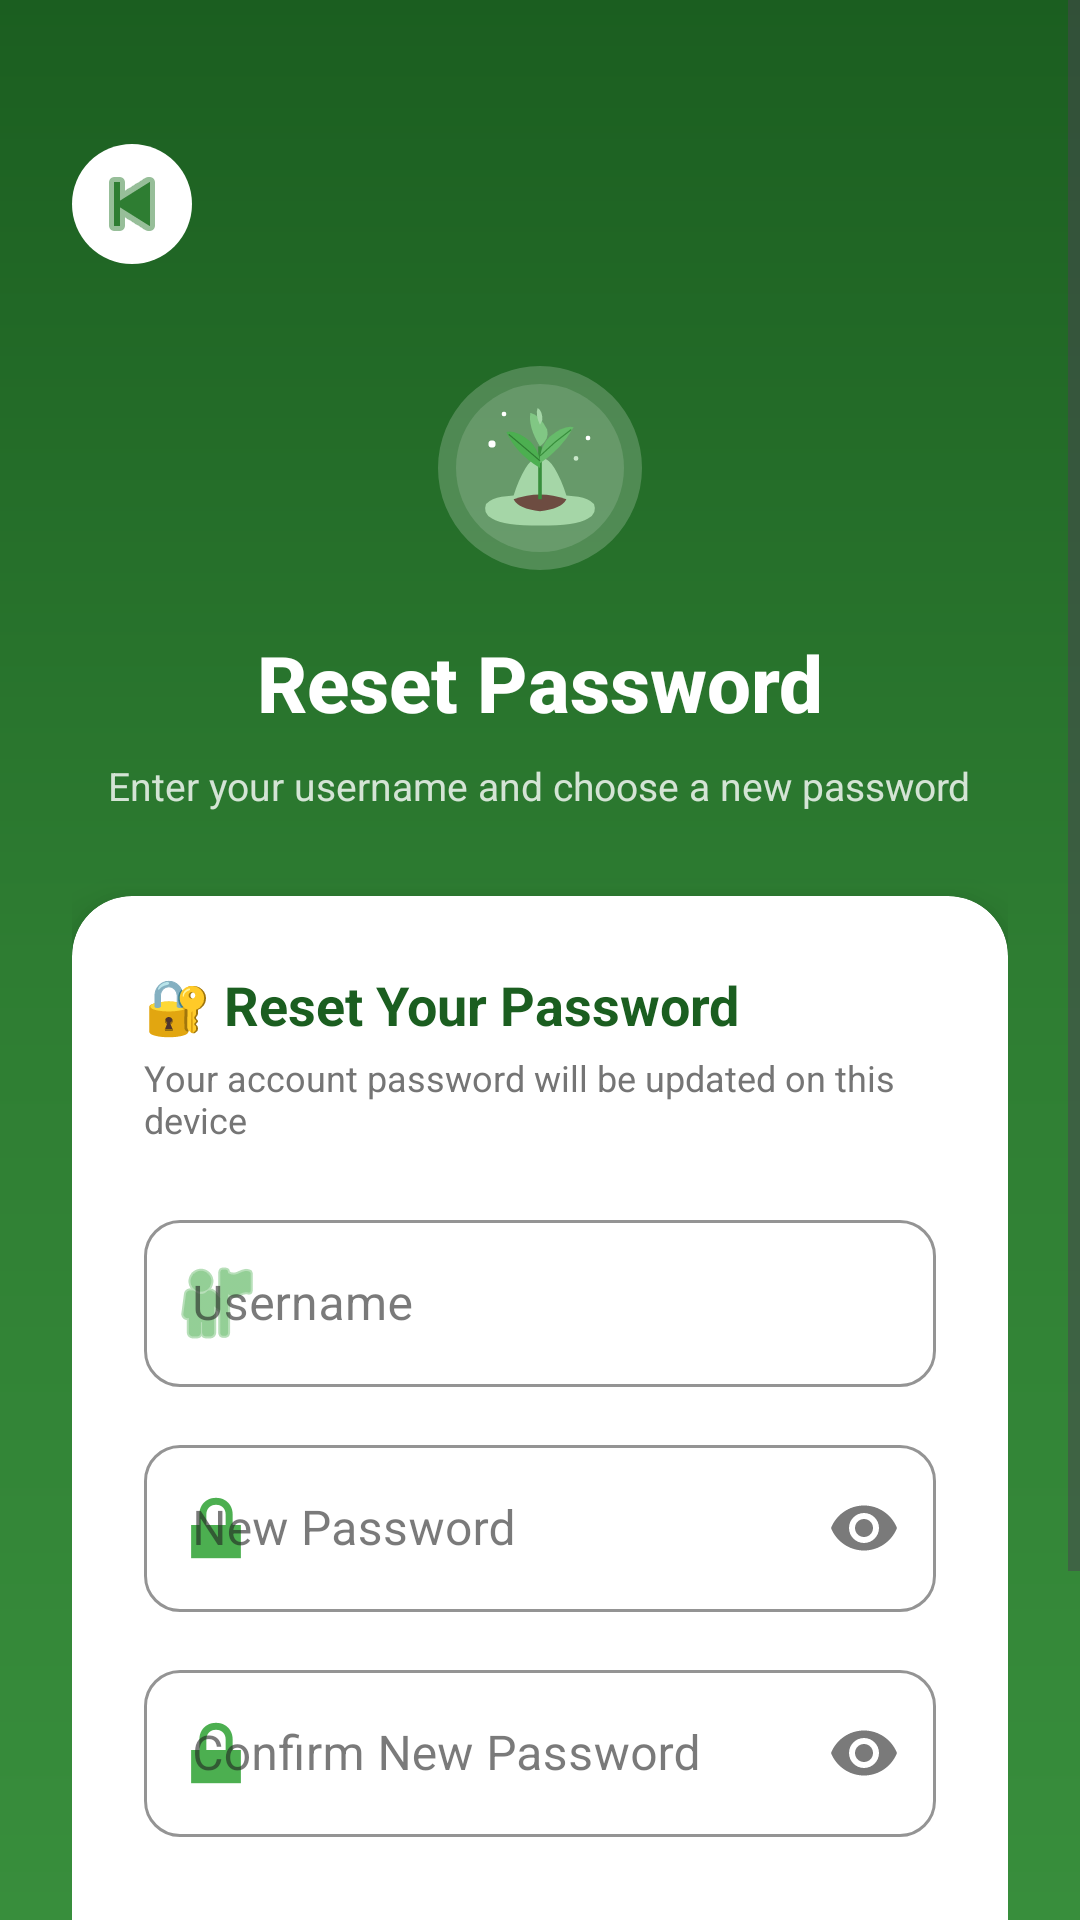

Locate icon controls on the screen. Image size 1080 x 1920, boxes as (x1, y1, x2, y2).
Back: (72, 144, 192, 264)
